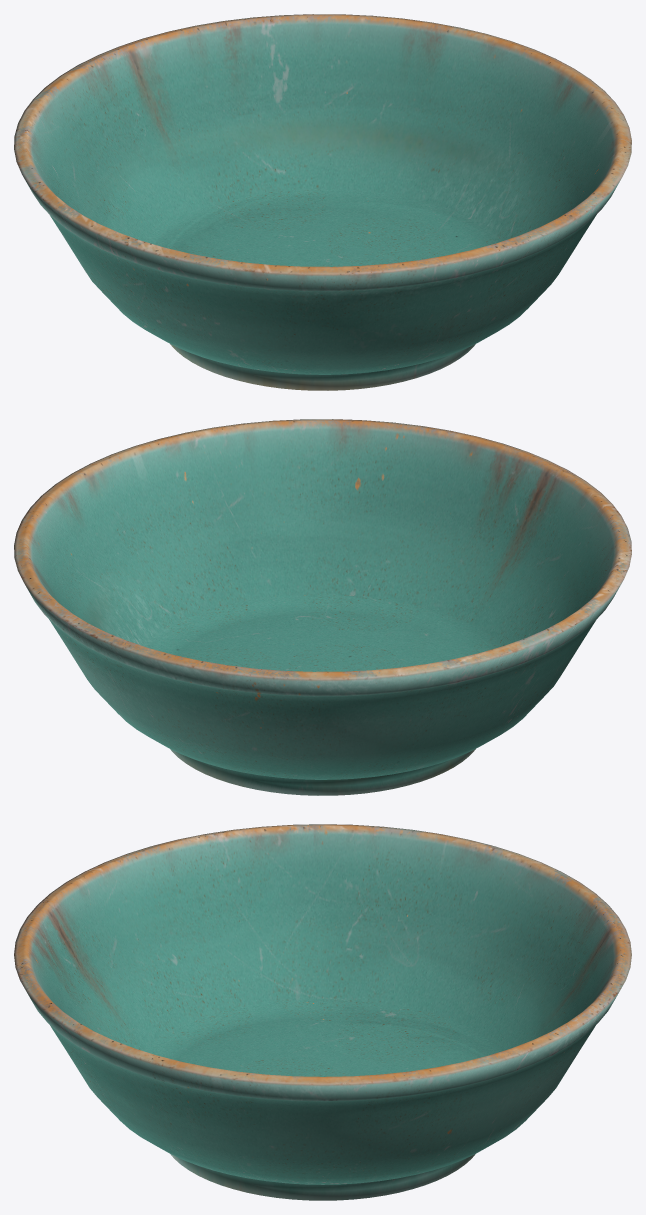
File: SM_CeladonglazedSmall.fbx
3 renders of one model, top to bottom at view 1: azimuth 30°, elevation 25°; view 2: azimuth 150°, elevation 25°; view 3: azimuth 270°, elevation 25°, orthographic.
Parts seen in each view (by area): view 1: SM_CeladonglazedSmall; view 2: SM_CeladonglazedSmall; view 3: SM_CeladonglazedSmall.
Boxes of the visible parts, x1=… form: SM_CeladonglazedSmall: x1=14, y1=14, x2=631, y2=390; SM_CeladonglazedSmall: x1=14, y1=419, x2=631, y2=795; SM_CeladonglazedSmall: x1=14, y1=824, x2=631, y2=1200.
Size of the model in its own units: 8.27 by 2.7 by 8.27.
1 material, 1 textured.
